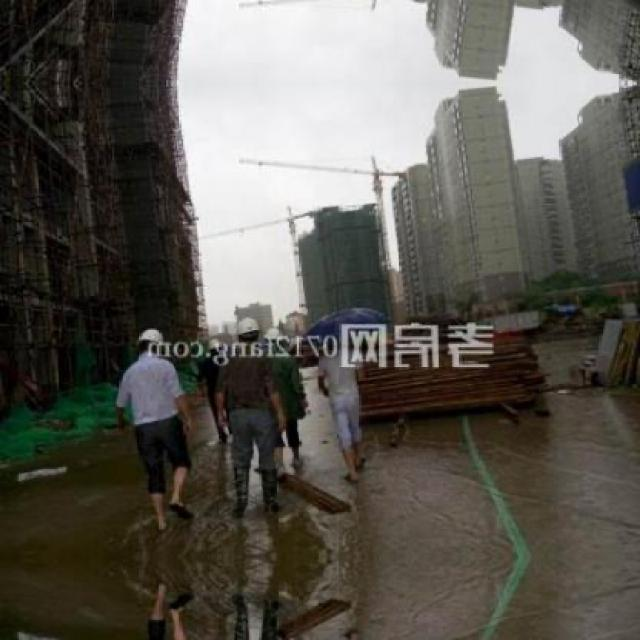helmet: (235, 313, 263, 350), (136, 327, 164, 362), (264, 322, 284, 353), (206, 336, 225, 361)
